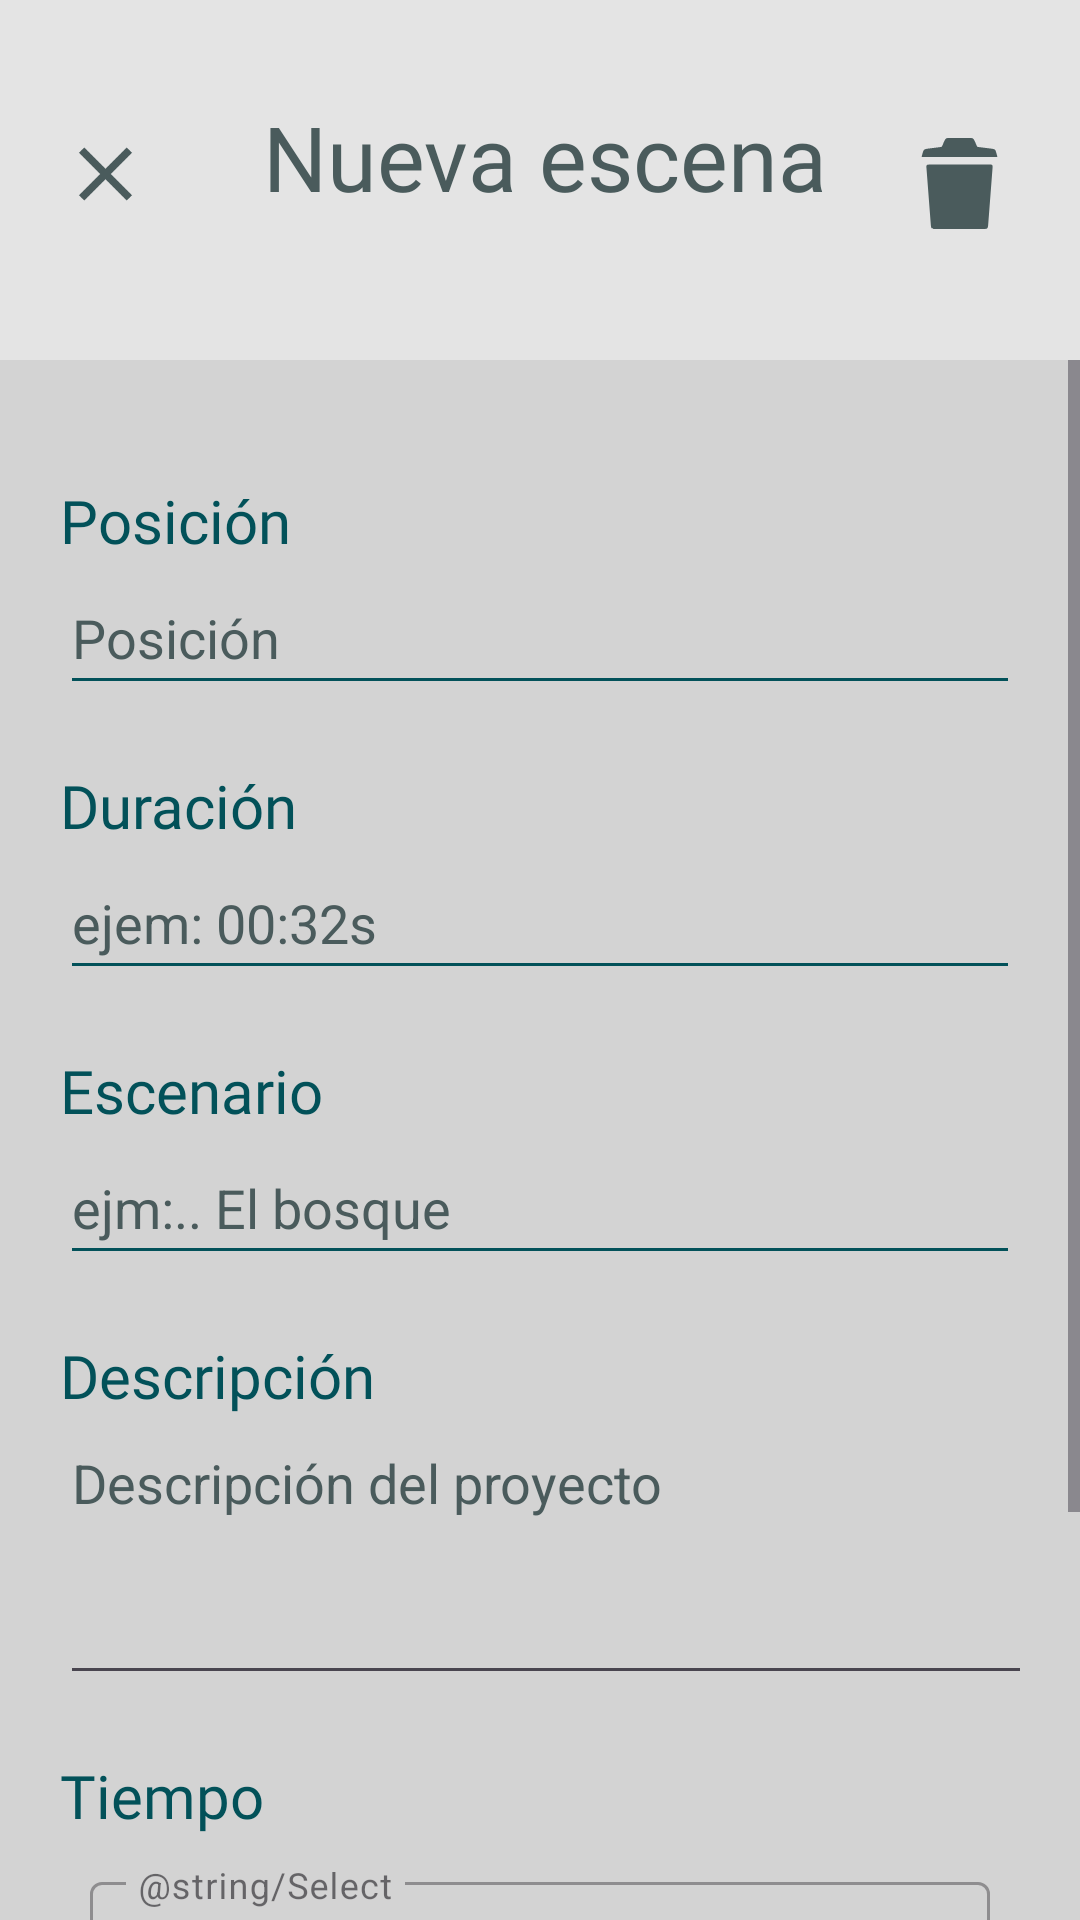

Icon click points for this 1080w x 1920h phone screenshot, format [x,y]:
Eliminar escena: [959,183]
Parra cerrar el formulario: [105,174]
